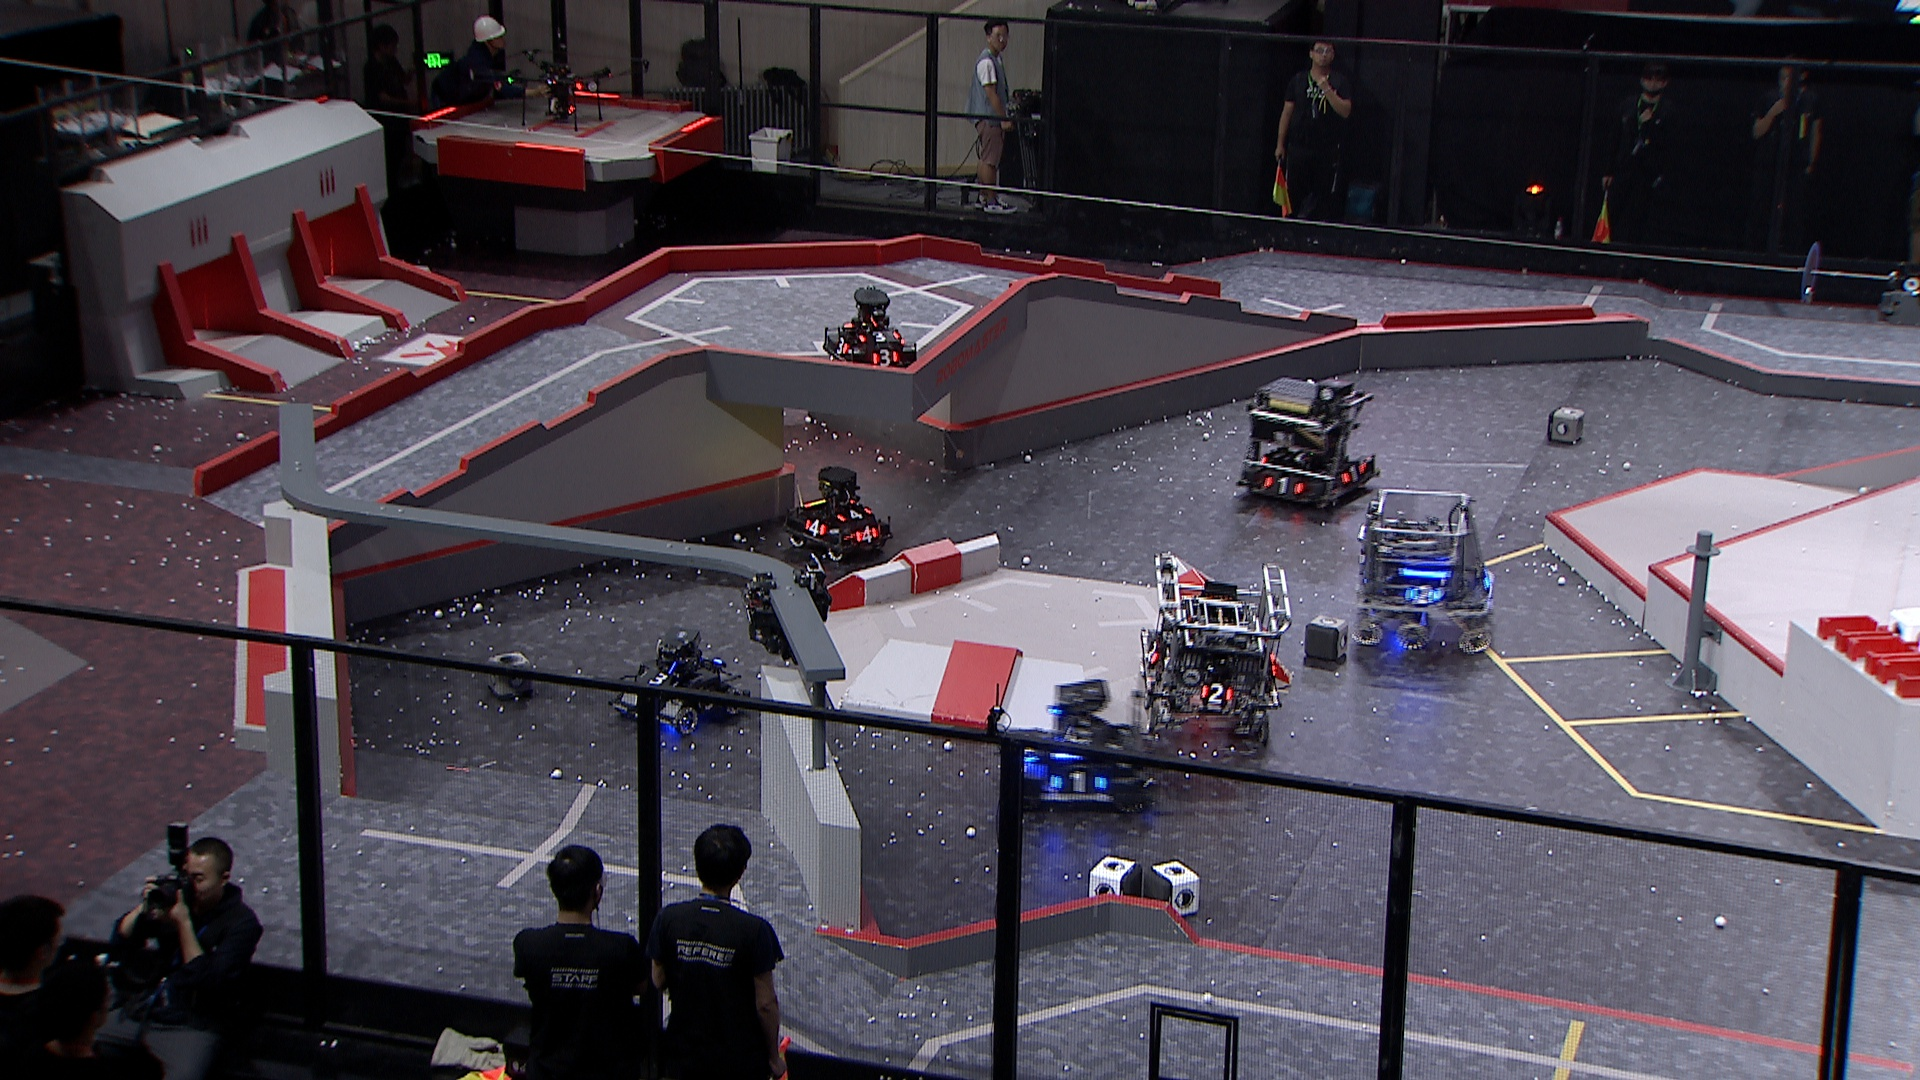armor: (1050, 765, 1110, 798), (636, 662, 675, 694), (1261, 473, 1305, 498), (1338, 460, 1371, 489), (856, 324, 903, 344), (1200, 684, 1238, 707), (1404, 585, 1443, 608), (799, 514, 829, 542), (833, 502, 872, 522), (855, 522, 884, 546), (868, 348, 902, 368), (1145, 637, 1160, 662), (832, 335, 851, 356)
car: (1135, 543, 1300, 742), (1352, 481, 1498, 657), (1011, 676, 1156, 815), (1232, 375, 1375, 512), (608, 624, 754, 733), (781, 463, 901, 566), (822, 286, 922, 371)
watcher: (738, 551, 839, 665)
